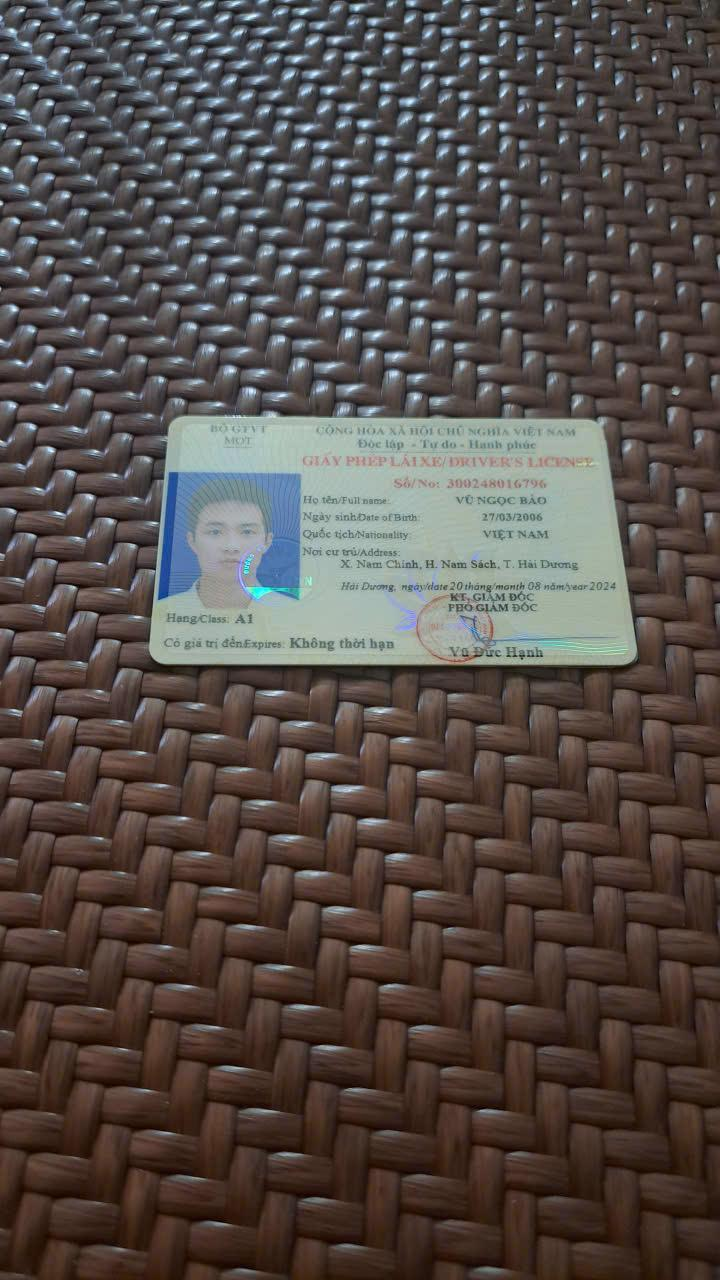gplx: (142, 409, 645, 672)
